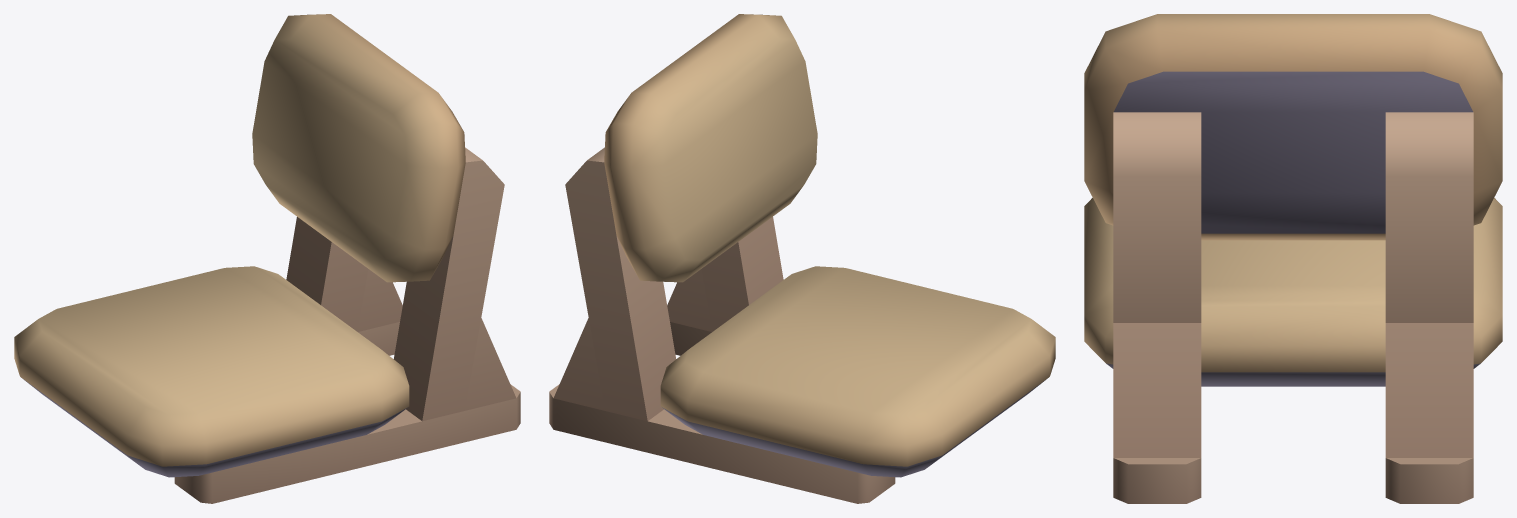
File: chair-zaisu.glb
The picture shows the model from 3 angles, left to right: view 1: azimuth 30°, elevation 25°; view 2: azimuth 150°, elevation 25°; view 3: azimuth 270°, elevation 25°; orthographic projection. The views are drawn at different scales.
Parts seen in each view (by area): view 1: chair-zaisu; view 2: chair-zaisu; view 3: chair-zaisu.
Part boxes in pixels (x1,y1,x2,y2): chair-zaisu: (14, 14, 520, 503); chair-zaisu: (549, 14, 1055, 503); chair-zaisu: (1084, 14, 1502, 503).
Size of the model in its own units: 0.5132 by 0.4406 by 0.385.
